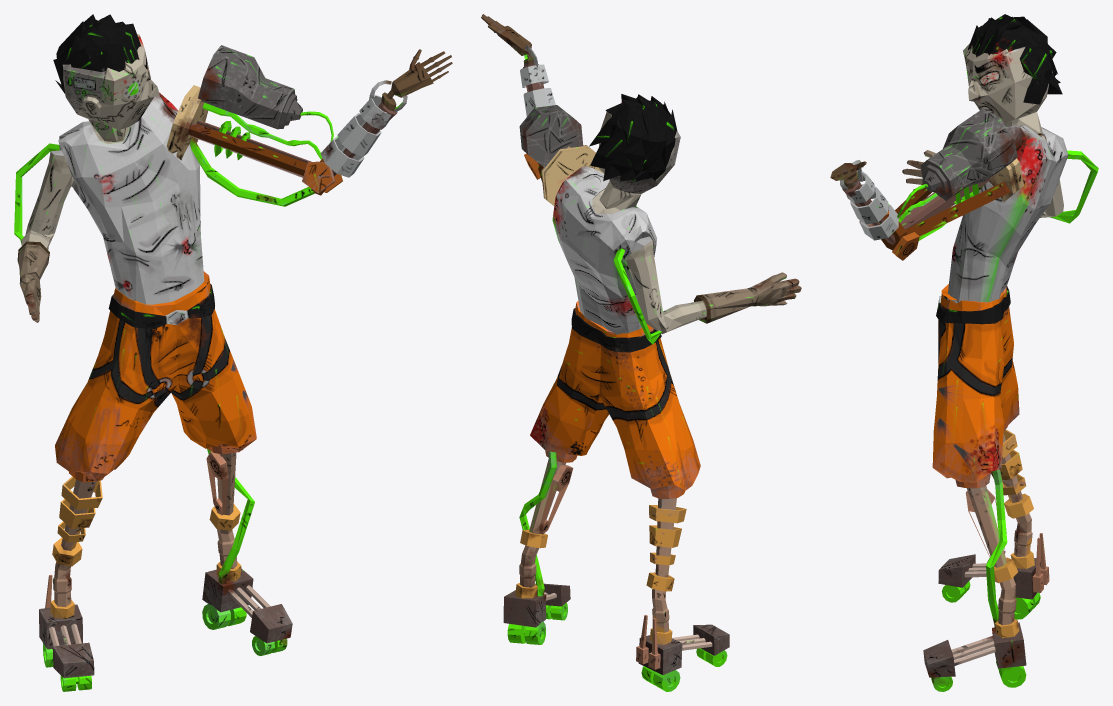
Rendered from CyborgFINALAnimation_000046.obj.
3 views of the same model, side by side, from view 1: azimuth 30°, elevation 25°; view 2: azimuth 150°, elevation 25°; view 3: azimuth 270°, elevation 25° (orthographic). The views are drawn at different scales.
Parts seen in each view (by area): view 1: CyborgMesh_Cube.002; view 2: CyborgMesh_Cube.002; view 3: CyborgMesh_Cube.002.
Boxes of the visible parts, box(x1,y1,x2,y2) form: CyborgMesh_Cube.002: box(14, 14, 452, 691); CyborgMesh_Cube.002: box(481, 14, 801, 691); CyborgMesh_Cube.002: box(830, 14, 1098, 691).
Size of the model in its own units: 6.03 by 9.55 by 3.79.
